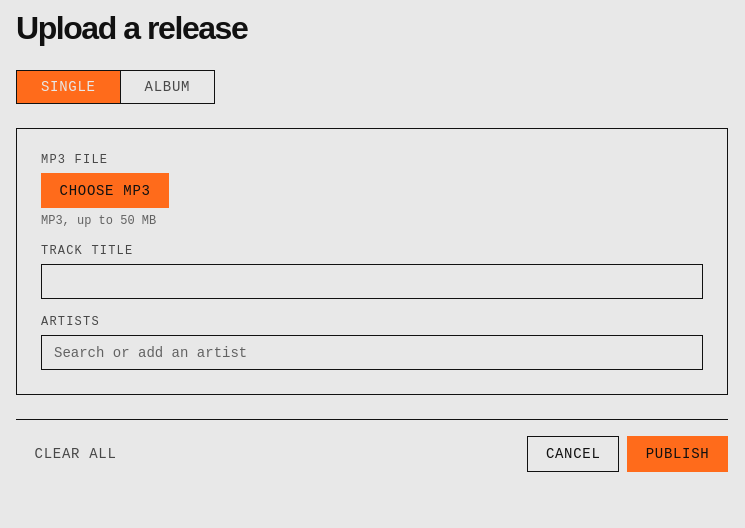
Test: UploadForm › Publish on an empty form shows field errors and uploads nothing
Click the button "Publish" at point(678, 454), box x1=627 y1=436 x2=728 y2=472
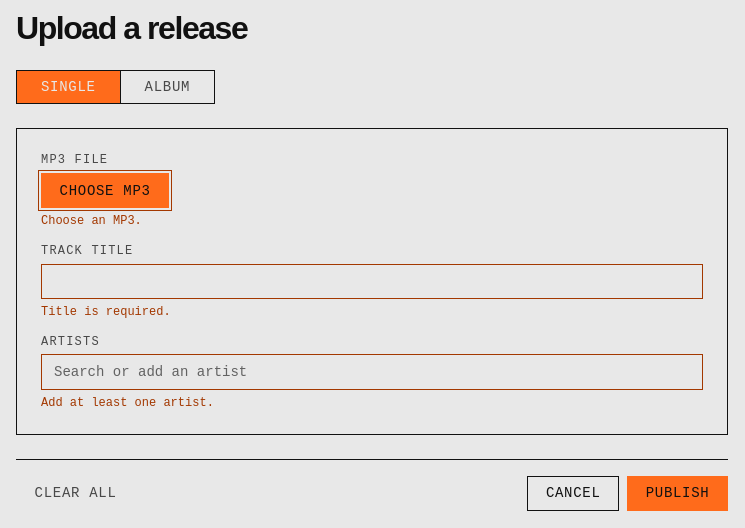
expect the text "Choose an MP3." is shown: met, box x1=41 y1=214 x2=142 y2=228
expect the text "Title is required." is shown: met, box x1=41 y1=305 x2=171 y2=319
expect the text "Add at least one artist." is shown: met, box x1=41 y1=396 x2=214 y2=410
